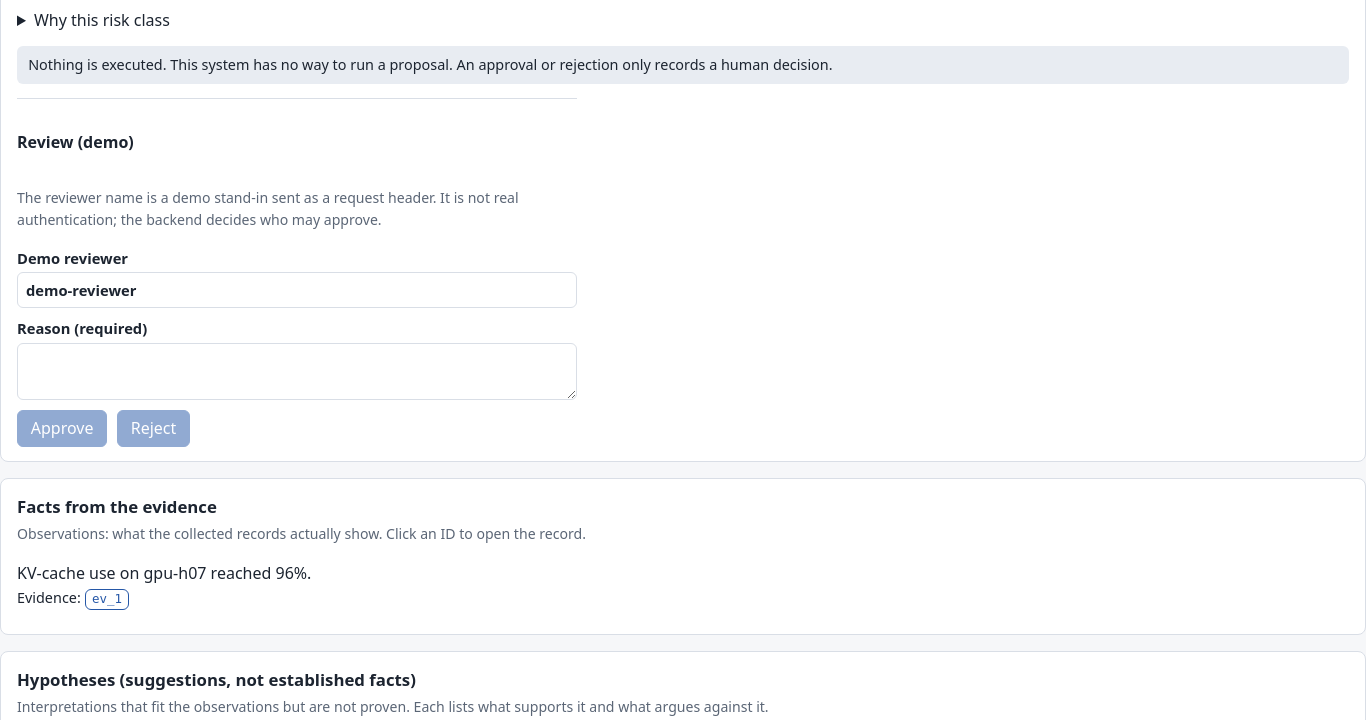
Test case: RunPage: proposal and approval › sends a rejection too
(page scrolled)
In the text box labelled "Reason (required)": (297, 371) [17,343,577,400], type "Too risky."
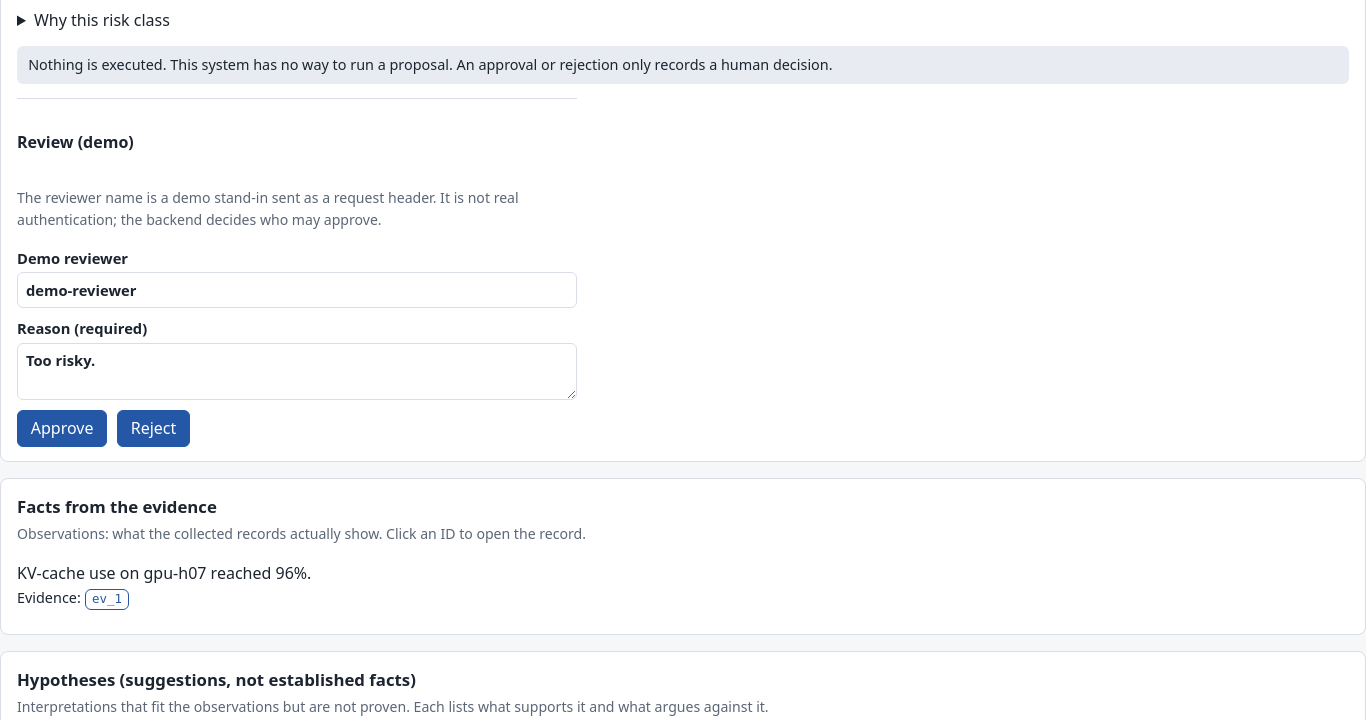
Click the button "Reject": (154, 428) [117,410,190,447]
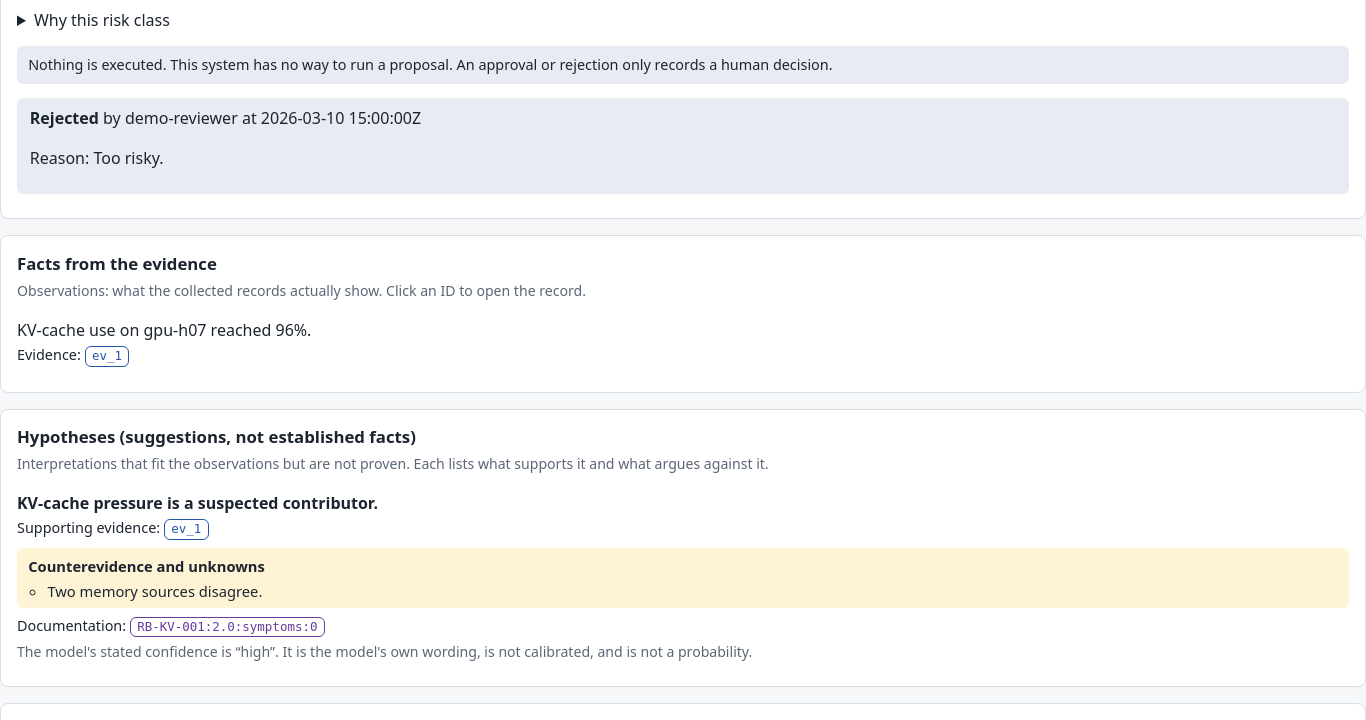
Expected: the element named "Recorded decision" shows "Rejected by demo-reviewer", [17,98,1349,194]
